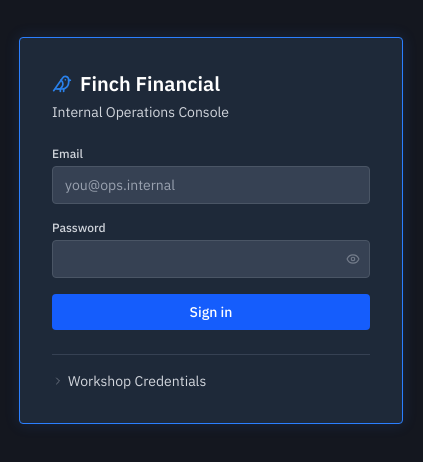
Login Page › displays error message on failed login
Type "wrong@example.com" into the field labelled "Email". click: {"x": 211, "y": 184}
box: [52, 166, 370, 204]
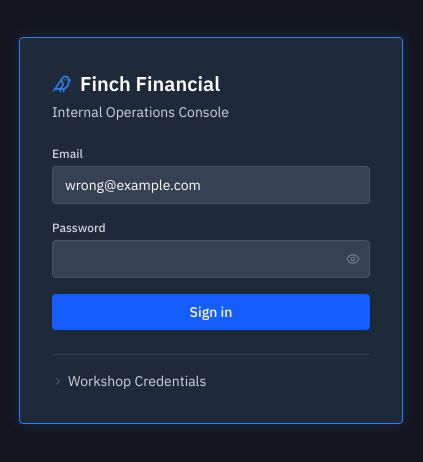
Type "wrongpassword" into the password field labelled "Password". click: {"x": 211, "y": 258}
box: [52, 240, 370, 278]
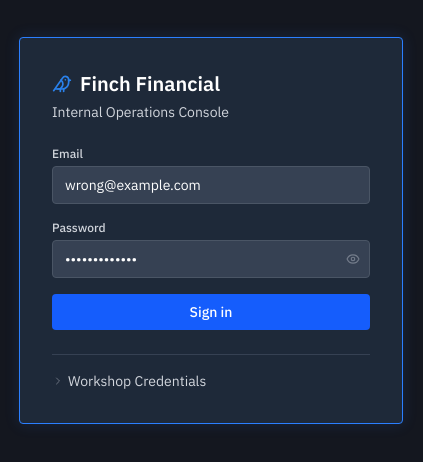
Click the button "Sign in". click: {"x": 211, "y": 312}
box: [52, 294, 370, 330]
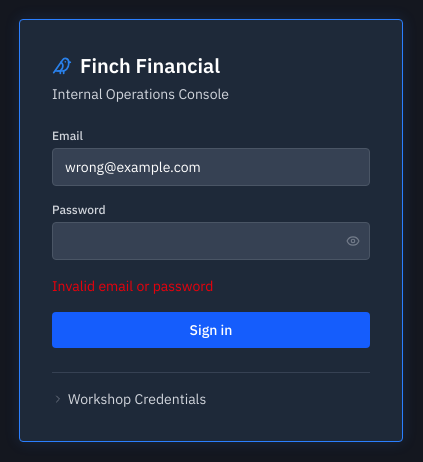
Expected: the text "Invalid email or password" is shown, [52, 276, 213, 294]
